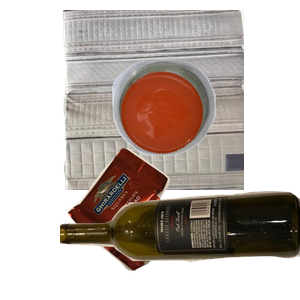glass: (60, 189, 300, 300)
paper: (60, 10, 300, 190)
plastic: (110, 57, 300, 205)
trash: (65, 145, 242, 300)
